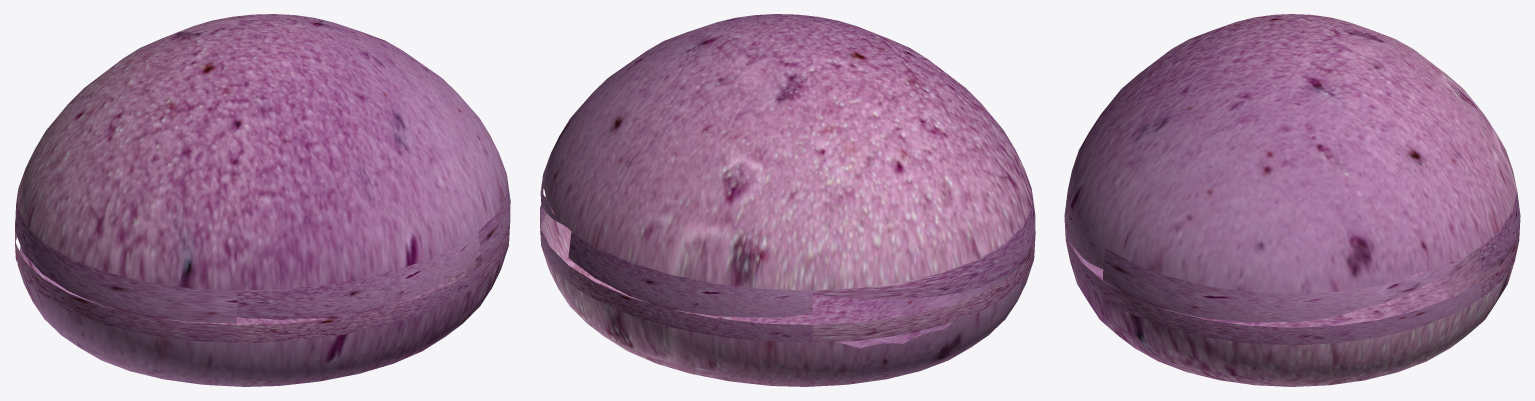
File: xynmc.FBX
3 renders of one model, left to right at view 1: azimuth 30°, elevation 25°; view 2: azimuth 150°, elevation 25°; view 3: azimuth 270°, elevation 25°, orthographic. The views are drawn at different scales.
Visible parts, largest first — view 1: Sphere001; view 2: Sphere001; view 3: Sphere001.
Part boxes in pixels (<box>): Sphere001: <box>15,14,510,386</box>; Sphere001: <box>540,14,1035,386</box>; Sphere001: <box>1064,14,1520,386</box>.
Bounding box in the file's own units: 0.0697 × 0.0439 × 0.0639.
